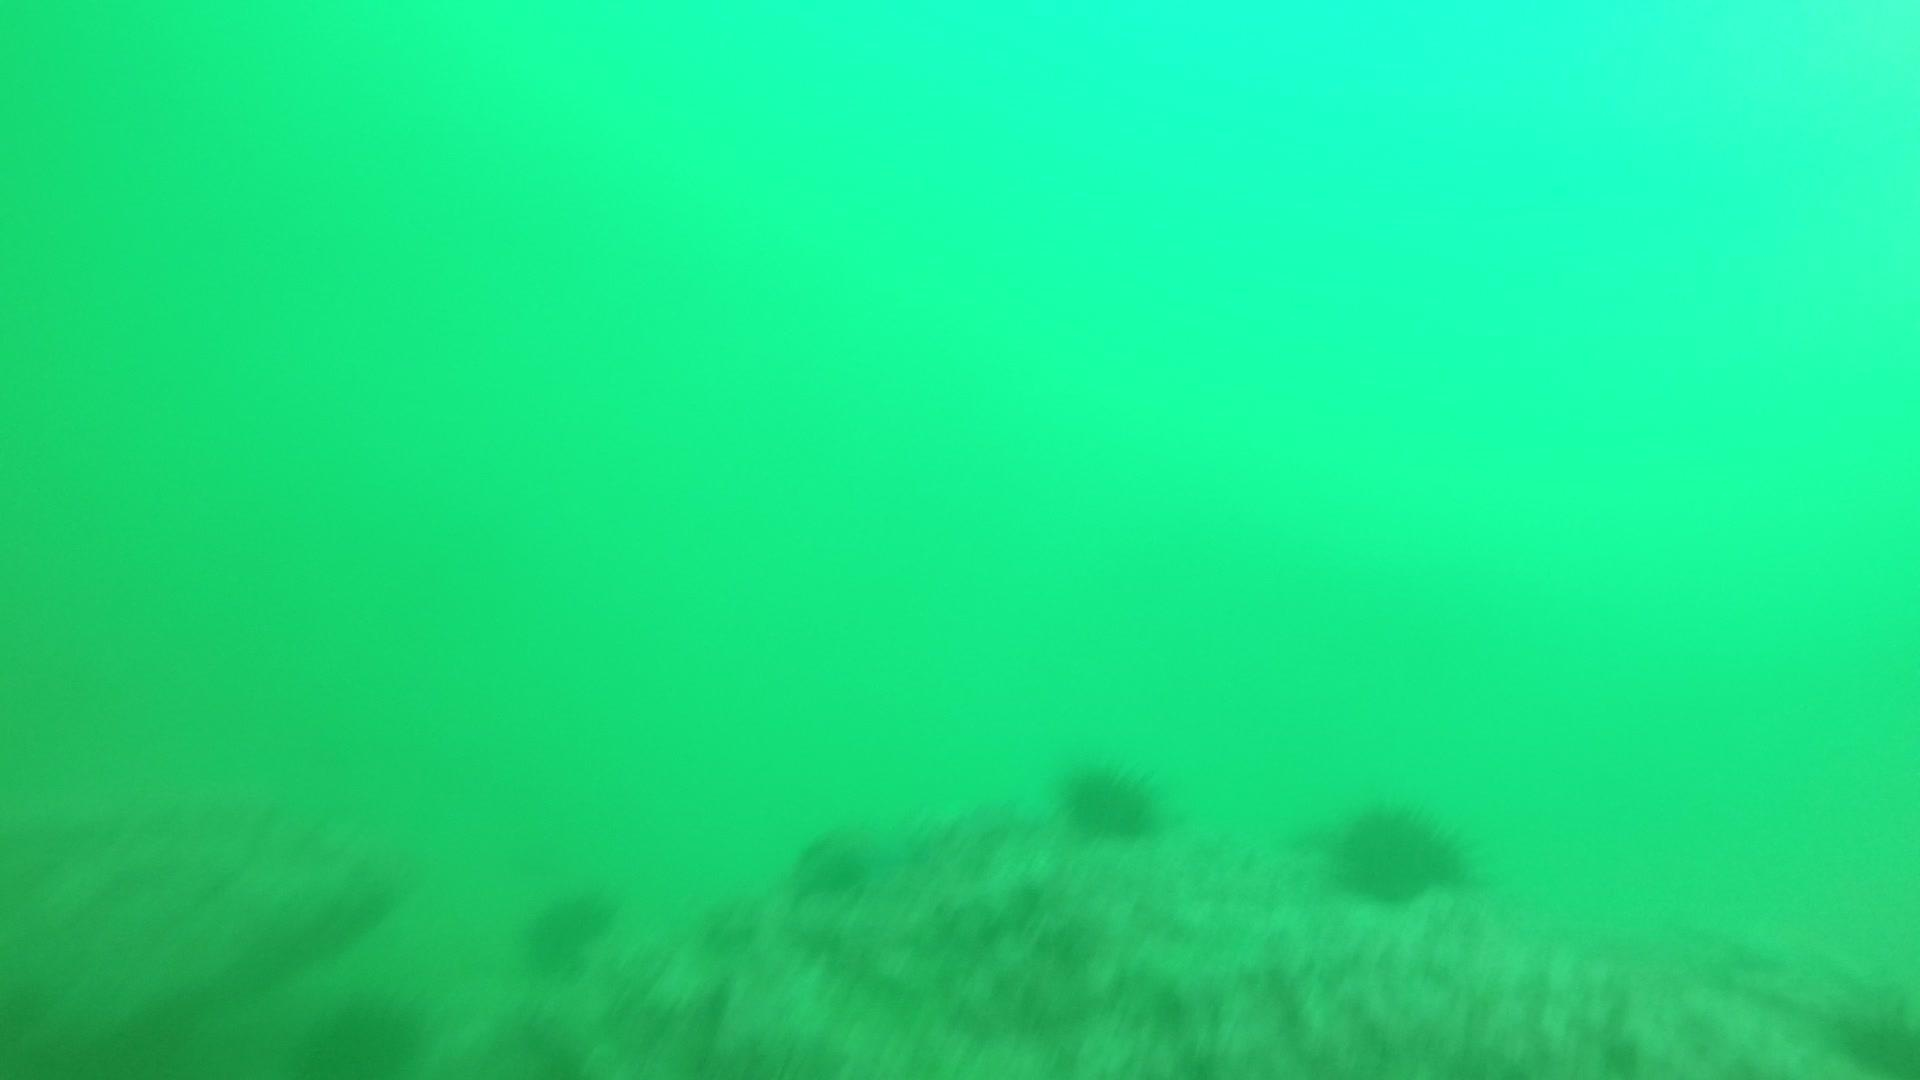echinus: (1327, 793, 1477, 909), (293, 984, 433, 1075), (1054, 752, 1167, 844), (517, 880, 618, 971), (1828, 996, 1917, 1076), (787, 822, 880, 899)
